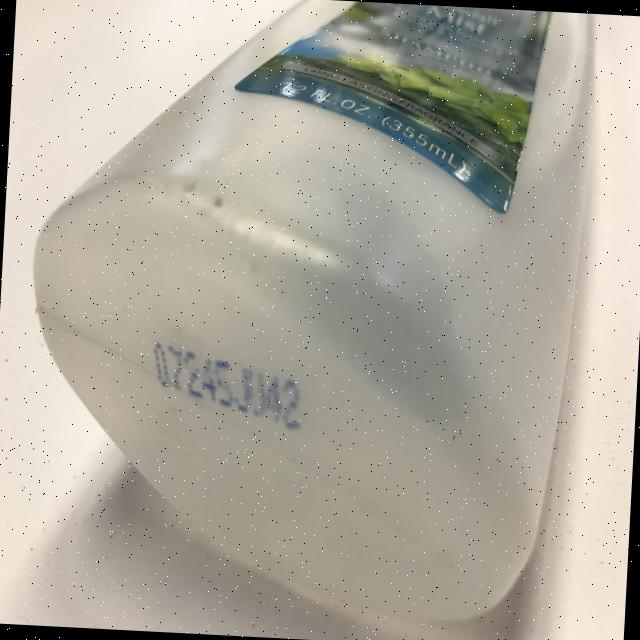plastic: (13, 0, 602, 632)
